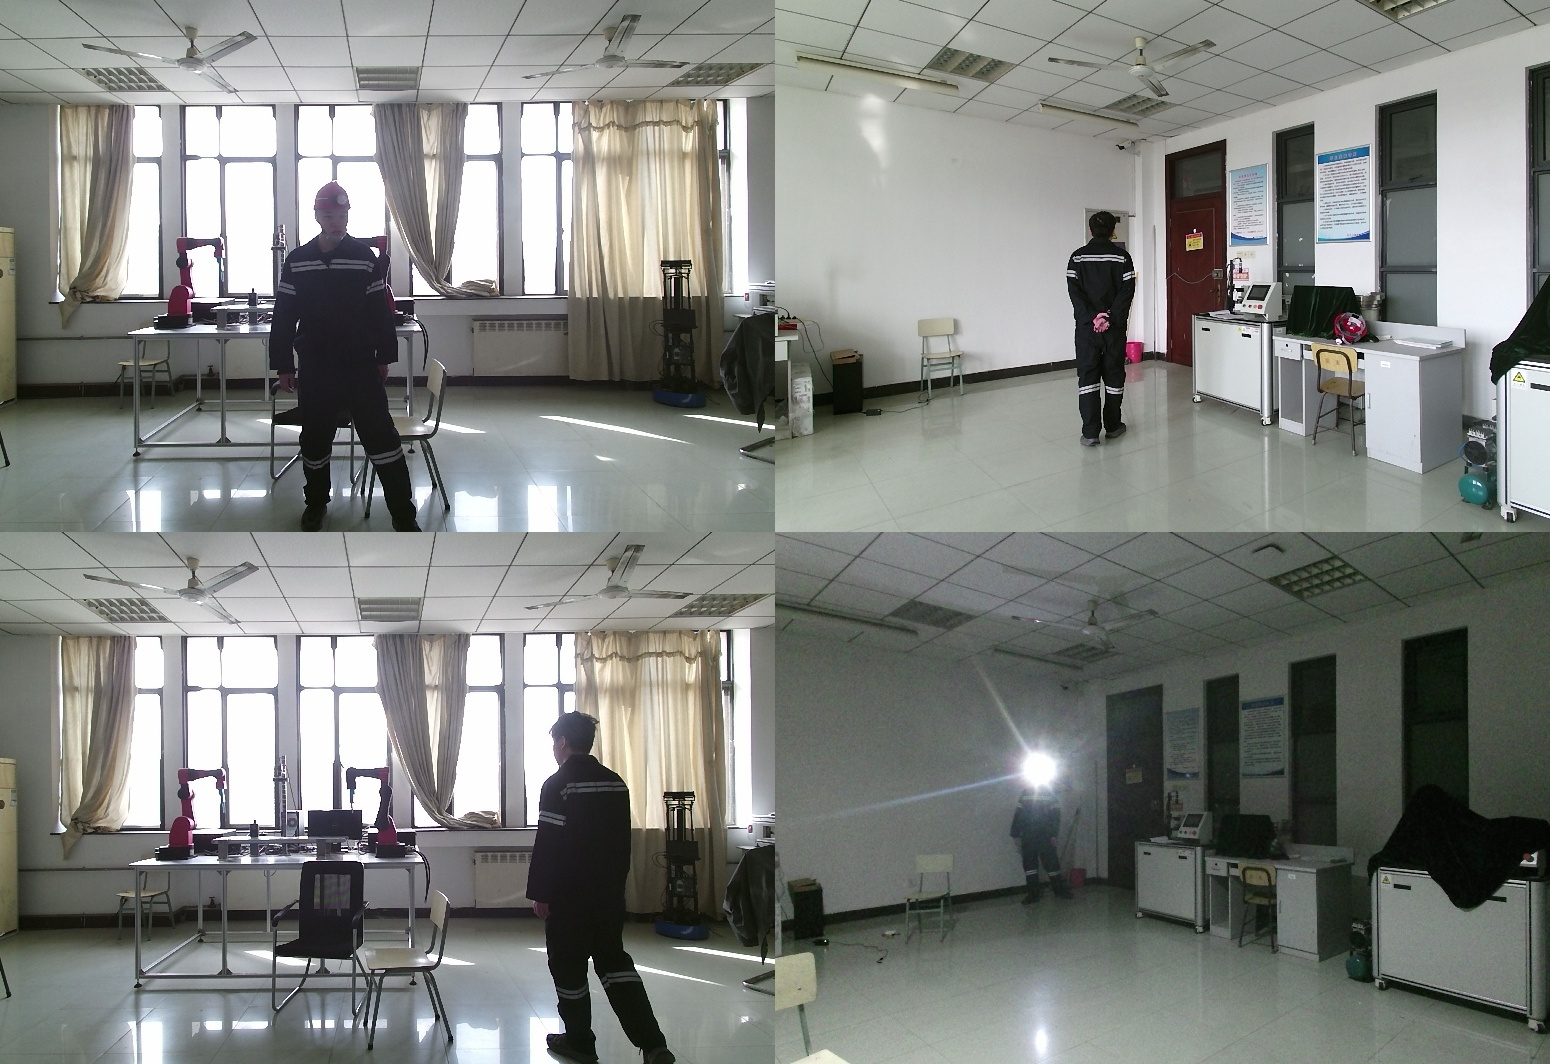person: (272, 181, 422, 532), (530, 710, 675, 1064), (1062, 211, 1144, 450), (1014, 764, 1071, 907)
